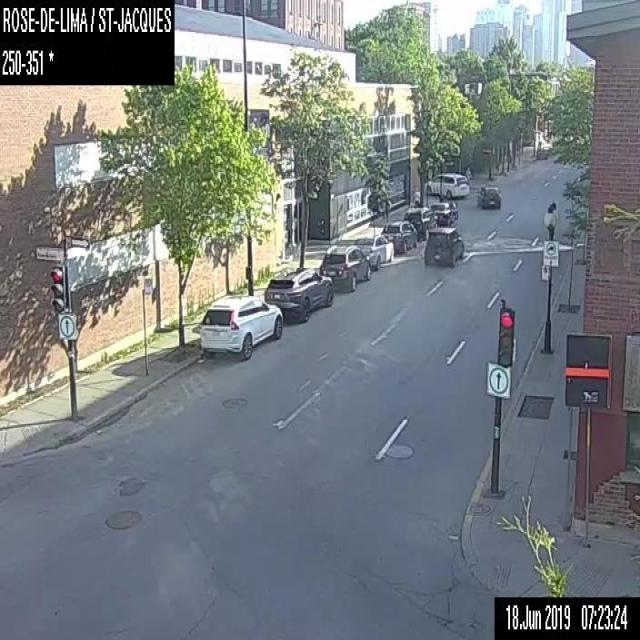pedestrian: (414, 187, 419, 206)
vehicle: (199, 294, 281, 358), (265, 265, 332, 321), (319, 242, 371, 290), (424, 227, 465, 265), (354, 232, 394, 270), (425, 170, 470, 198), (380, 219, 417, 251), (403, 205, 436, 237), (476, 183, 501, 209), (428, 201, 453, 224), (536, 146, 547, 158)
